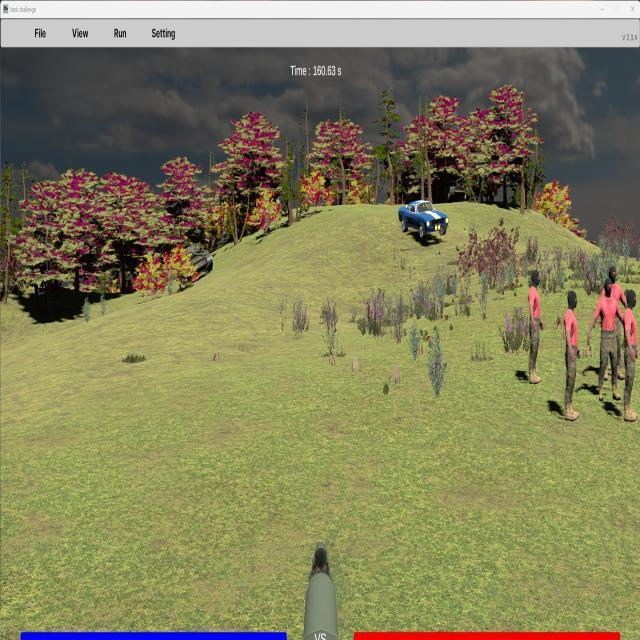Human: (588, 282, 626, 402), (621, 291, 639, 423), (563, 289, 580, 421), (528, 271, 543, 385)
Tank: (174, 243, 214, 277)
car: (398, 199, 448, 239)
